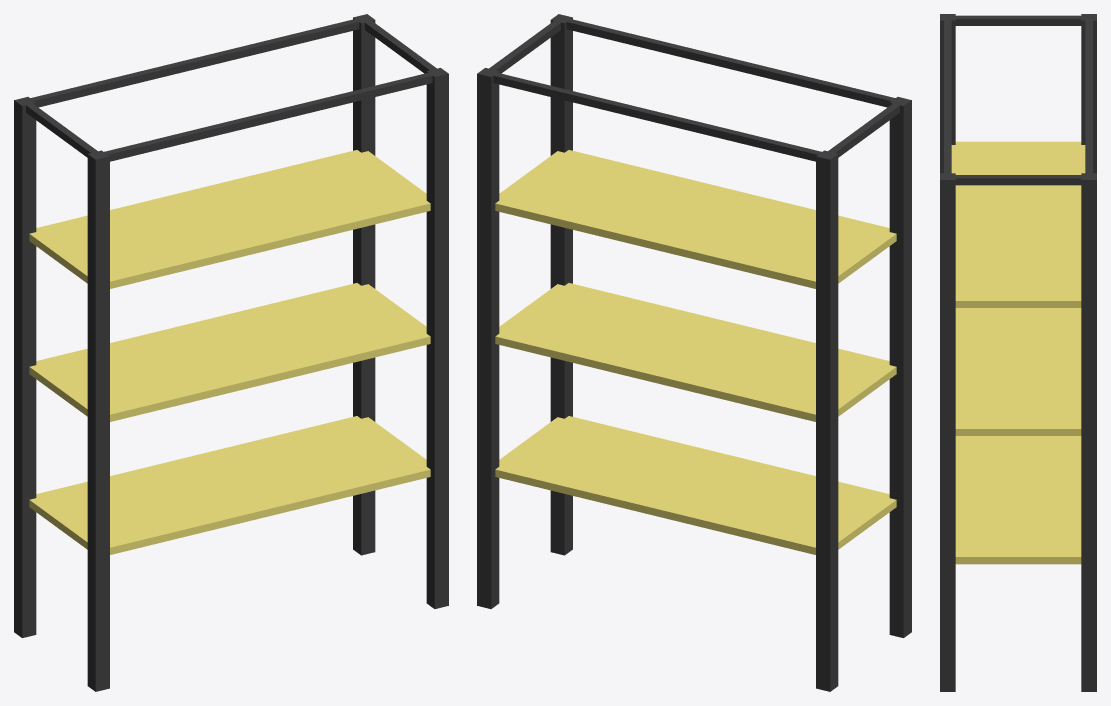
Rendered from shelf_basic.gltf.
3 views of the same model, side by side, from view 1: azimuth 30°, elevation 25°; view 2: azimuth 150°, elevation 25°; view 3: azimuth 270°, elevation 25° (orthographic). The views are drawn at different scales.
Visible parts, largest first — view 1: Shelf_36, Shelf_18, Shelf_54, Pillar_0, Pillar_1, Pillar_2, Pillar_3, HFrame_1, HFrame_0, HFrame_3, HFrame_2; view 2: Shelf_36, Shelf_18, Shelf_54, Pillar_2, Pillar_3, Pillar_0, Pillar_1, HFrame_0, HFrame_1, HFrame_3, HFrame_2; view 3: Shelf_54, Shelf_18, Shelf_36, Pillar_3, Pillar_1, HFrame_2, HFrame_3, Pillar_0, Pillar_2, HFrame_1, HFrame_0.
Boxes of the visible parts, x1=… form: Shelf_36: x1=29, y1=283, x2=430, y2=421; Shelf_18: x1=29, y1=416, x2=430, y2=554; Shelf_54: x1=29, y1=150, x2=430, y2=288; Pillar_0: x1=87, y1=150, x2=109, y2=691; Pillar_1: x1=426, y1=68, x2=448, y2=608; Pillar_2: x1=14, y1=97, x2=36, y2=637; Pillar_3: x1=353, y1=14, x2=375, y2=555; HFrame_1: x1=24, y1=17, x2=365, y2=107; HFrame_0: x1=97, y1=71, x2=439, y2=161; HFrame_3: x1=361, y1=18, x2=440, y2=73; HFrame_2: x1=22, y1=101, x2=101, y2=157; Shelf_36: x1=495, y1=283, x2=896, y2=421; Shelf_18: x1=495, y1=416, x2=896, y2=554; Shelf_54: x1=495, y1=150, x2=896, y2=288; Pillar_2: x1=816, y1=150, x2=838, y2=691; Pillar_3: x1=477, y1=68, x2=499, y2=608; Pillar_0: x1=889, y1=97, x2=911, y2=637; Pillar_1: x1=550, y1=14, x2=572, y2=555; HFrame_0: x1=560, y1=17, x2=901, y2=107; HFrame_1: x1=486, y1=71, x2=828, y2=161; HFrame_3: x1=485, y1=18, x2=564, y2=73; HFrame_2: x1=824, y1=101, x2=903, y2=157; Shelf_54: x1=951, y1=141, x2=1085, y2=307; Shelf_18: x1=955, y1=436, x2=1081, y2=564; Shelf_36: x1=955, y1=308, x2=1081, y2=435; Pillar_3: x1=1081, y1=173, x2=1096, y2=691; Pillar_1: x1=940, y1=173, x2=955, y2=691; HFrame_2: x1=948, y1=15, x2=1088, y2=25; HFrame_3: x1=948, y1=175, x2=1088, y2=185; Pillar_0: x1=940, y1=14, x2=955, y2=173; Pillar_2: x1=1081, y1=14, x2=1096, y2=173; HFrame_1: x1=1085, y1=17, x2=1092, y2=176; HFrame_0: x1=944, y1=17, x2=951, y2=176.
Bounding box in the file's own units: 1.27 × 1.83 × 0.508.
